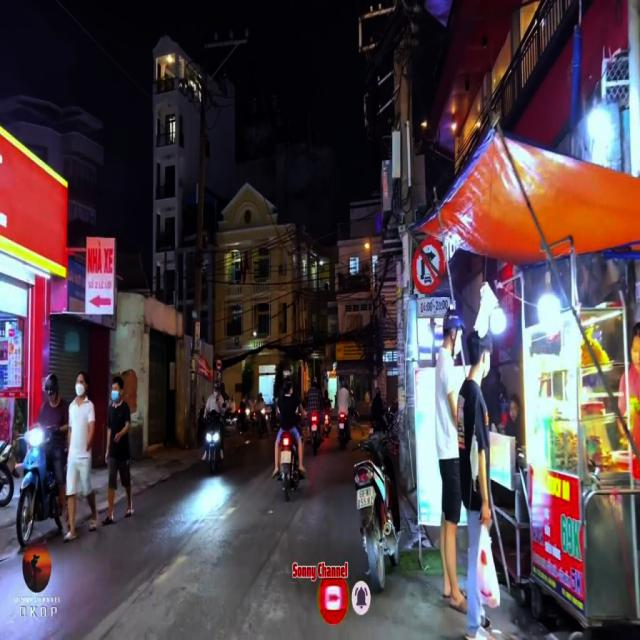cam_o_to_re_phai: (412, 236, 447, 294)
khac: (416, 297, 451, 318)
